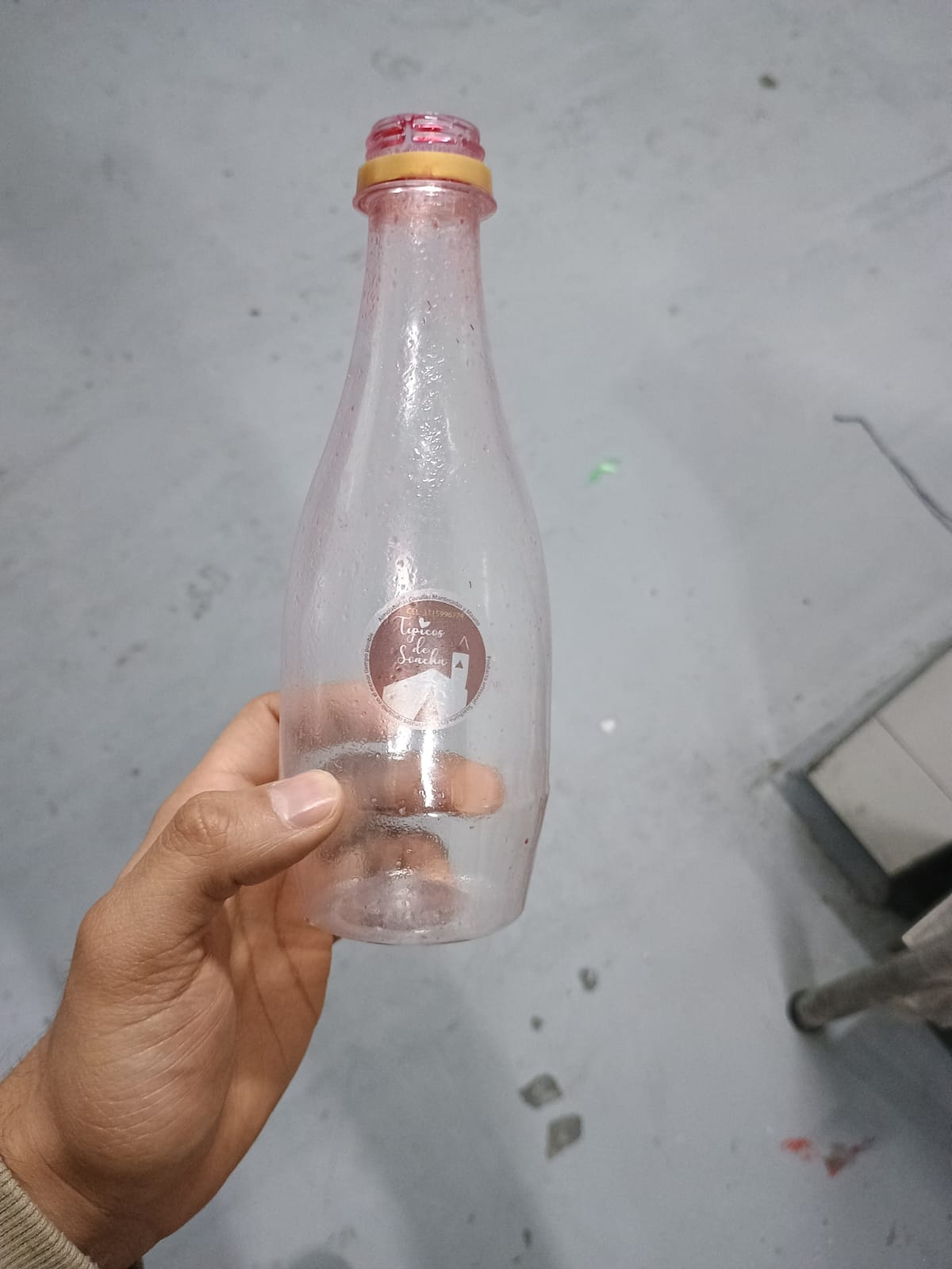Plastico: (276, 110, 552, 950)
